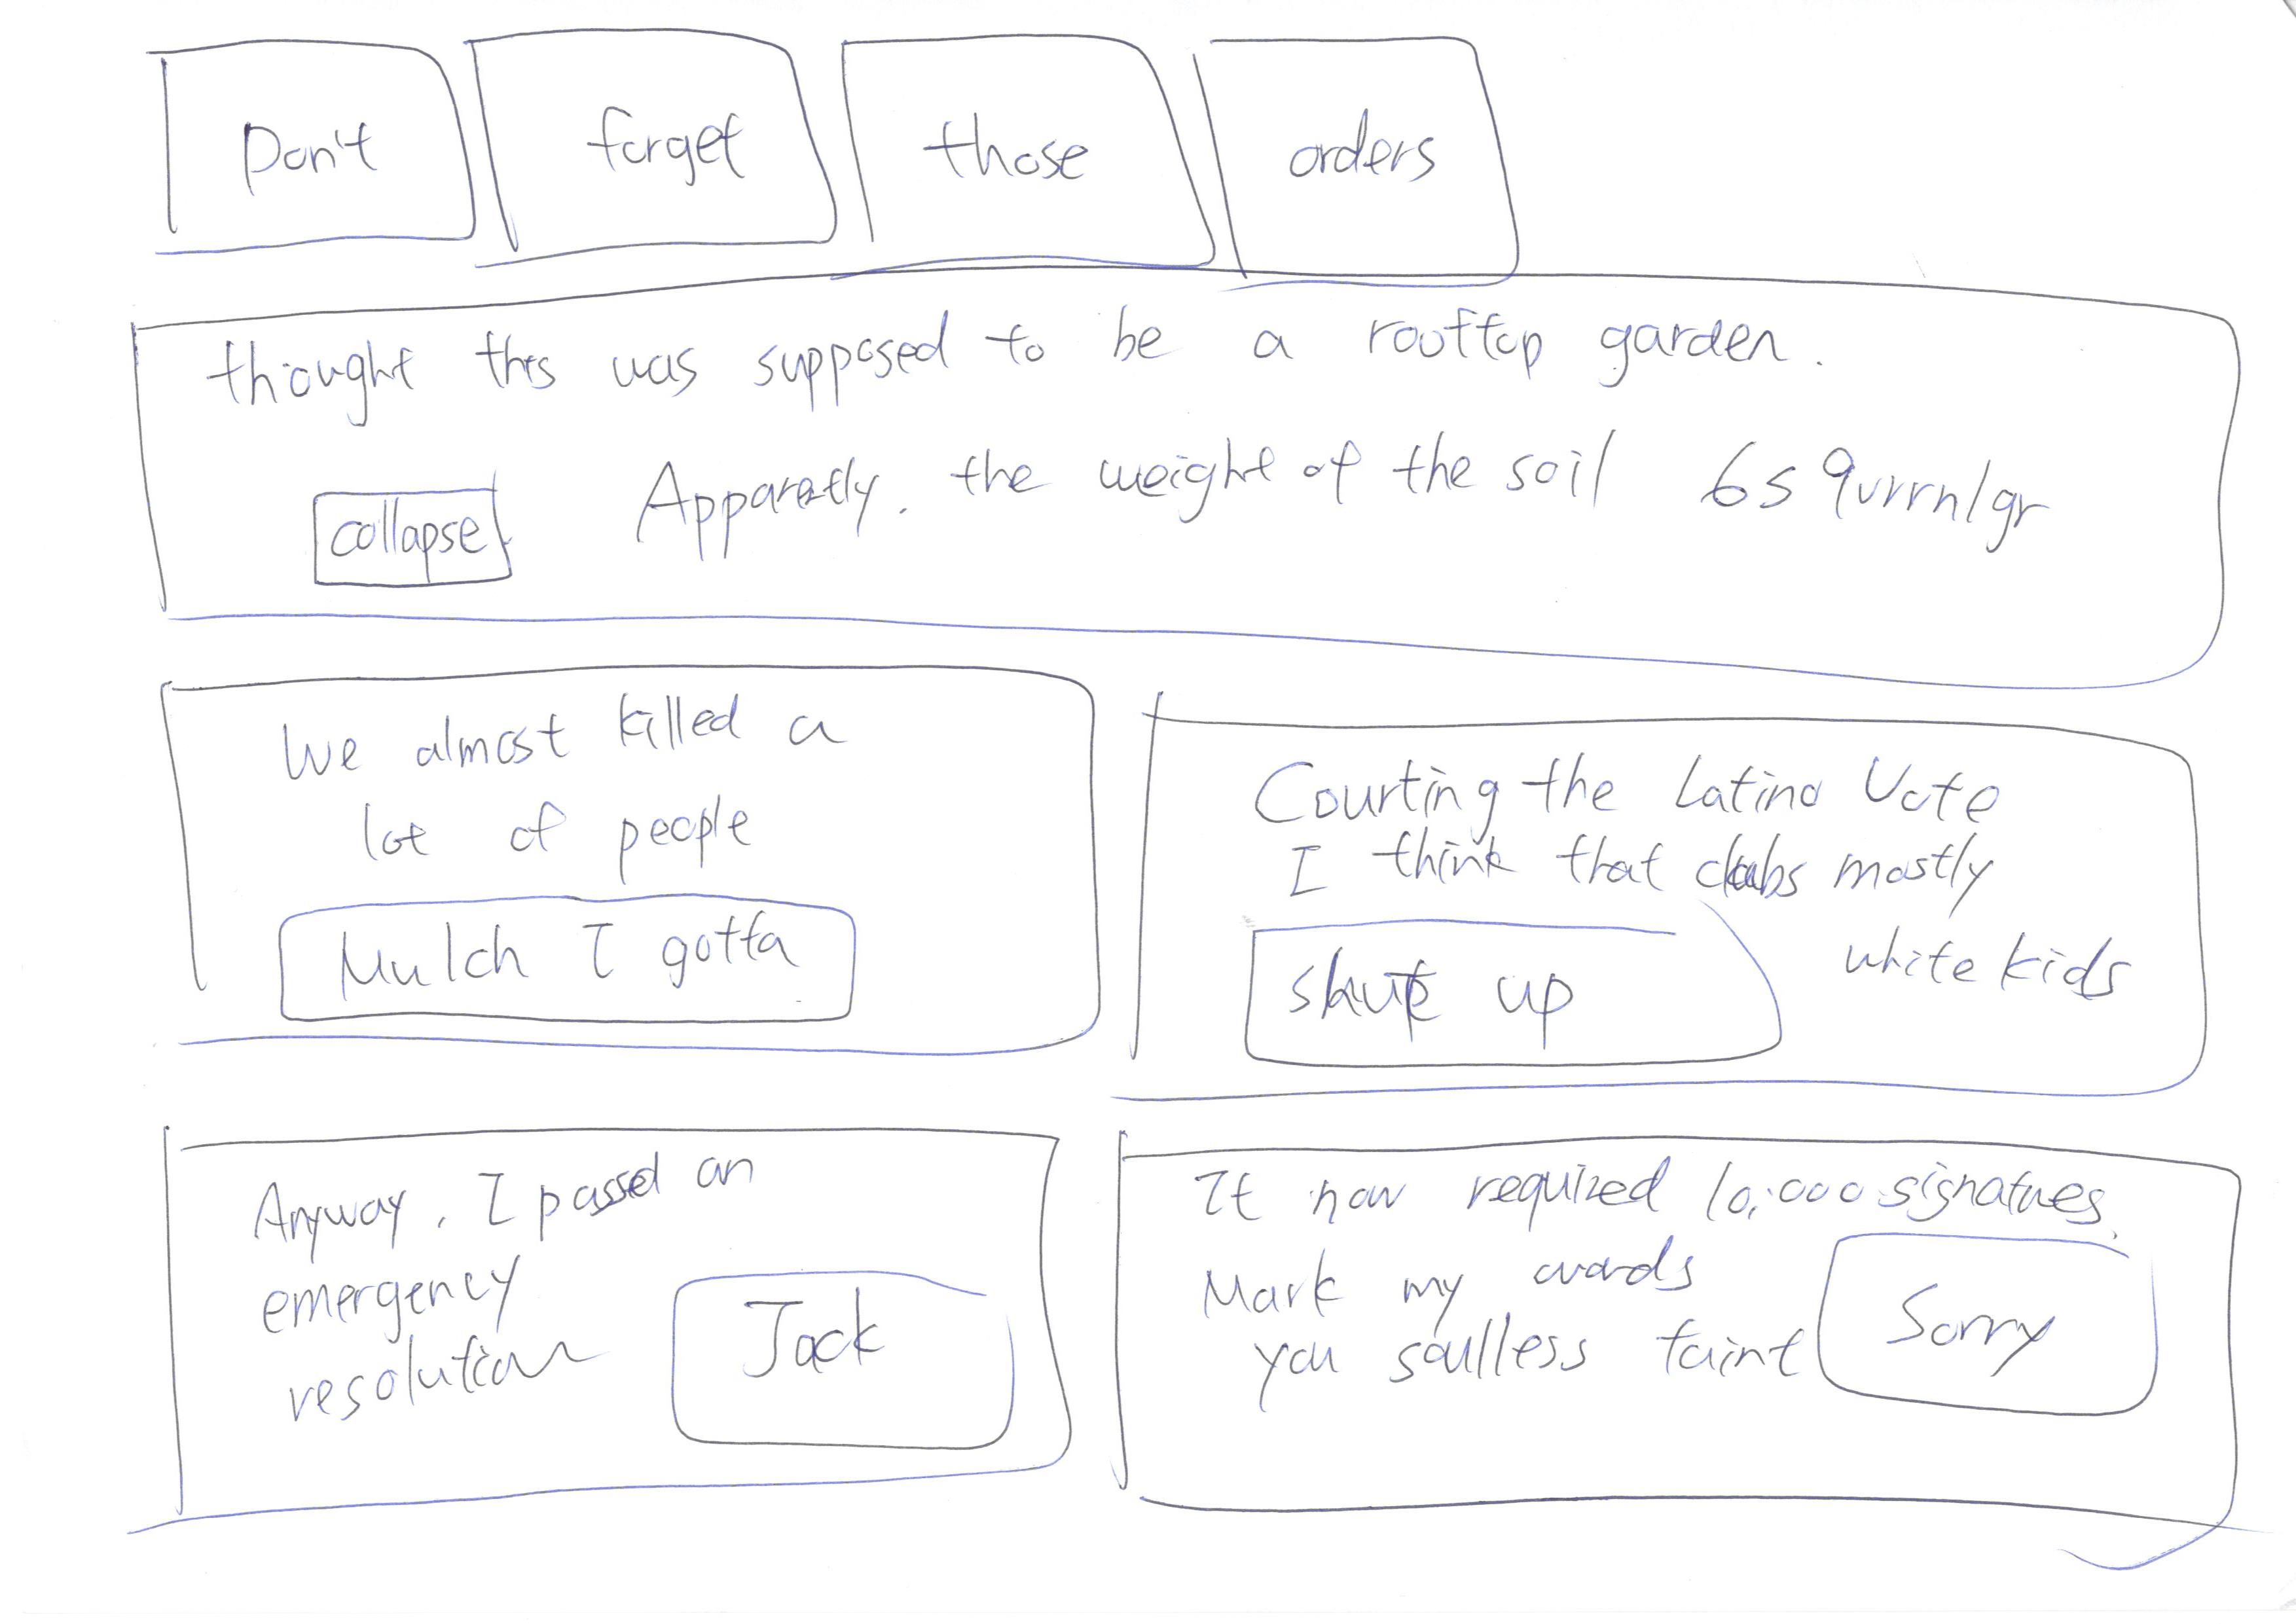btn-active: (1187, 11, 1565, 339), (253, 861, 893, 1044), (1190, 903, 1830, 1084), (454, 0, 849, 260), (854, 2, 1210, 285), (636, 1241, 1041, 1480), (1798, 1218, 2203, 1457), (127, 0, 485, 265), (297, 459, 575, 605)
double: (1088, 1100, 2296, 1571), (1109, 663, 2296, 1097), (125, 1077, 1090, 1573), (109, 647, 1122, 1098)
row: (53, 1076, 2277, 1624), (44, 619, 2296, 1128), (28, 246, 2296, 719), (39, 2, 2296, 308)
single: (77, 244, 2296, 708)
text: (596, 422, 2078, 578), (1194, 1158, 1784, 1411), (202, 322, 1834, 395), (1239, 810, 2071, 910), (253, 1239, 580, 1438), (1234, 747, 2043, 826), (246, 685, 858, 777), (1827, 898, 2145, 1042), (246, 1160, 770, 1244), (302, 784, 777, 863), (1719, 1142, 2141, 1227)
